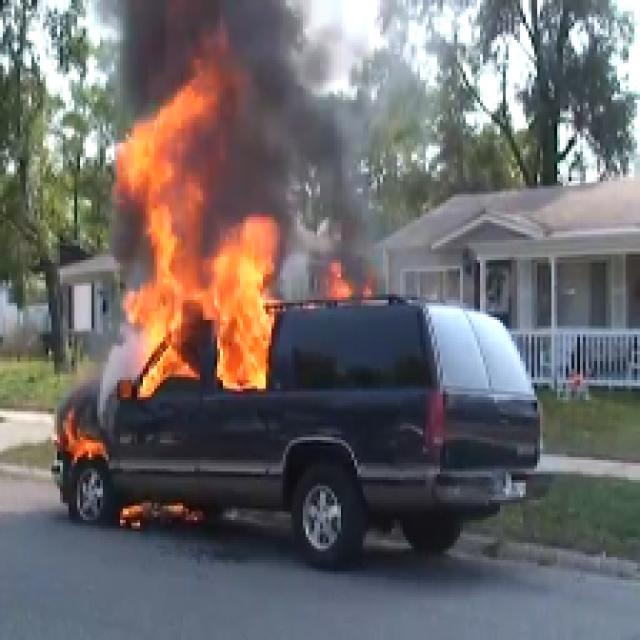fire: (136, 220, 275, 392), (125, 90, 209, 215)
smoke: (238, 8, 366, 206)
